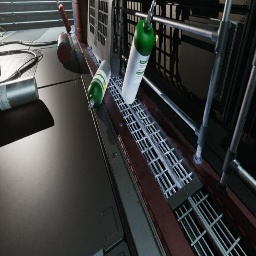0: (122, 0, 156, 104), (0, 76, 39, 112), (87, 60, 111, 111)
FireExtinguisher ]: (57, 0, 71, 33)
NitrogenTank ,: (57, 32, 71, 64)
